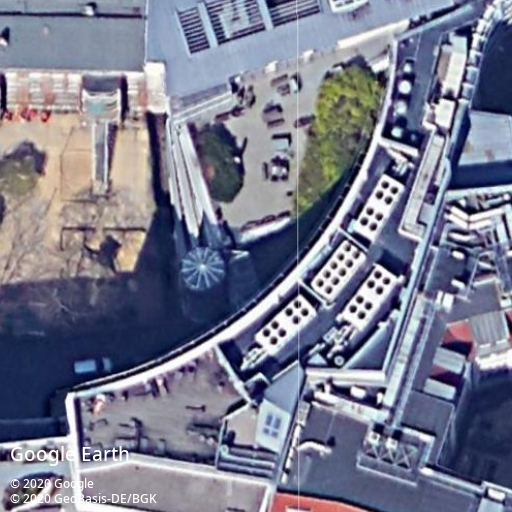Chiller: (255, 294, 318, 356), (341, 264, 398, 332), (352, 174, 406, 241), (310, 238, 368, 300), (368, 431, 382, 445), (386, 437, 398, 451)
